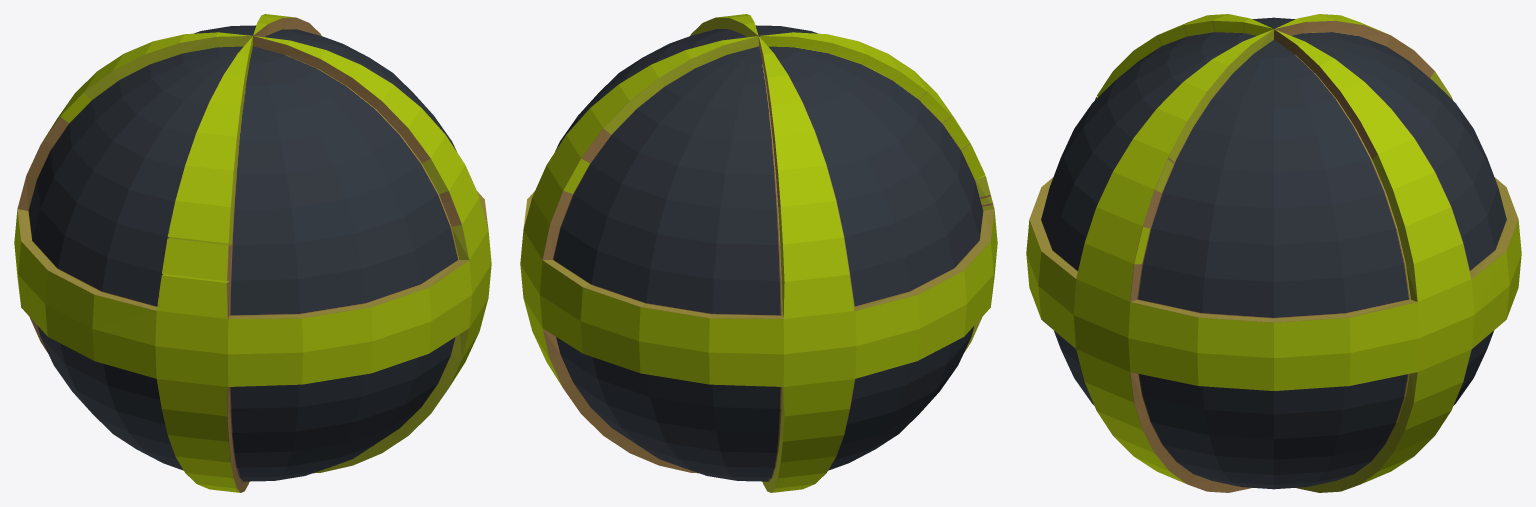
File: enemyChase.fbx
3 renders of one model, left to right at view 1: azimuth 30°, elevation 25°; view 2: azimuth 150°, elevation 25°; view 3: azimuth 270°, elevation 25°, orthographic. The views are drawn at different scales.
Parts seen in each view (by area): view 1: pSphere1; view 2: pSphere1; view 3: pSphere1.
Boxes of the visible parts, x1,y1,x2,y2 form: pSphere1: (14, 14, 491, 492); pSphere1: (520, 14, 997, 492); pSphere1: (1026, 14, 1521, 492).
Size of the model in its own units: 1.05 by 1.05 by 1.05.
Materials: 1 (1 with a texture image).
